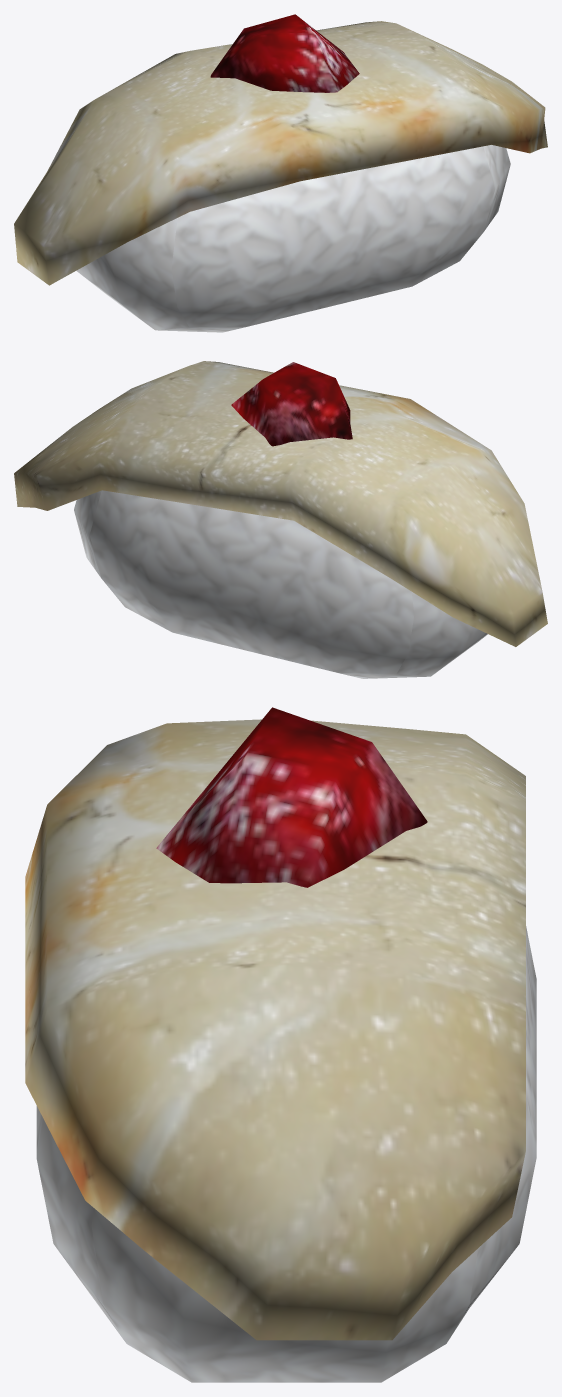
File: sea_bream_2.fbx
3 renders of one model, top to bottom at view 1: azimuth 30°, elevation 25°; view 2: azimuth 150°, elevation 25°; view 3: azimuth 270°, elevation 25°, orthographic. The views are drawn at different scales.
Visible parts, largest first — view 1: sea_bream_2; view 2: sea_bream_2; view 3: sea_bream_2.
Boxes of the visible parts, bbox=[...] form: sea_bream_2: bbox=[14, 14, 547, 332]; sea_bream_2: bbox=[14, 361, 547, 678]; sea_bream_2: bbox=[25, 707, 536, 1382].
Bounding box in the file's own units: 7.17 × 3.66 × 3.2.
